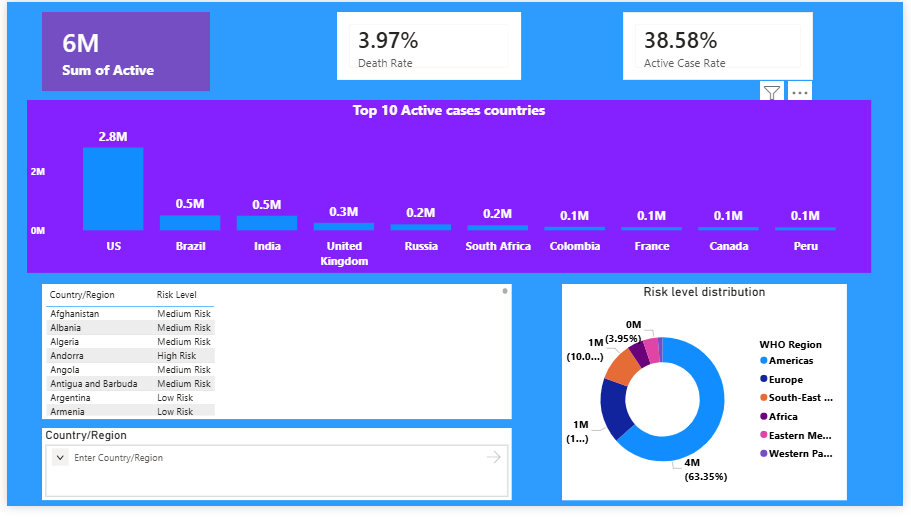

The dashboard page shown, as its layout file describes it:
{"tool":"powerbi","page":{"name":"Page 4","canvas":[1280,720],"ordinal":3},"visuals":[{"type":"cardVisual","fields":{"Data":["Sum(country_wise_latest.Active)"]},"box":[50,14.3,240,112.9],"z":0},{"type":"cardVisual","fields":{"Data":["country_wise_latest.Death Rate"]},"box":[471.4,14.3,262.9,97.1],"z":1000},{"type":"cardVisual","fields":{"Data":["country_wise_latest.Active Case Rate"]},"box":[880,14.3,271.4,97.1],"z":2000},{"type":"clusteredColumnChart","title":"Top 10  Active cases countries ","fields":{"Y":["Sum(country_wise_latest.Active)"],"Category":["country_wise_latest.Country/Region"]},"box":[28.6,140,1205.7,247.1],"z":3000},{"type":"donutChart","title":"Risk level distribution","fields":{"Category":["country_wise_latest.WHO Region"],"Y":["Sum(country_wise_latest.Active)"]},"box":[792.9,402.9,407.1,308.6],"z":4000},{"type":"tableEx","fields":{"Values":["country_wise_latest.Country/Region","country_wise_latest.Risk Level"]},"box":[50,402.9,671.4,192.9],"z":5000},{"type":"textSlicer","fields":{"Values":["country_wise_latest.Country/Region"]},"box":[50,608.6,671.4,102.9],"z":6000}]}

Visuals, with their boxes in screenshot pixels (x1, y1, x2, y2), scaled from the page's 1280x720 canvas onto the 911x517 screenshot:
cardVisual - Sum(country_wise_latest.Active): detection(36, 10, 206, 91)
cardVisual - country_wise_latest.Death Rate: detection(336, 10, 523, 80)
cardVisual - country_wise_latest.Active Case Rate: detection(626, 10, 819, 80)
"Top 10  Active cases countries " clusteredColumnChart: detection(20, 101, 878, 278)
"Risk level distribution" donutChart: detection(564, 289, 854, 511)
tableEx - country_wise_latest.Country/Region x country_wise_latest.Risk Level: detection(36, 289, 513, 428)
textSlicer - country_wise_latest.Country/Region: detection(36, 437, 513, 511)
